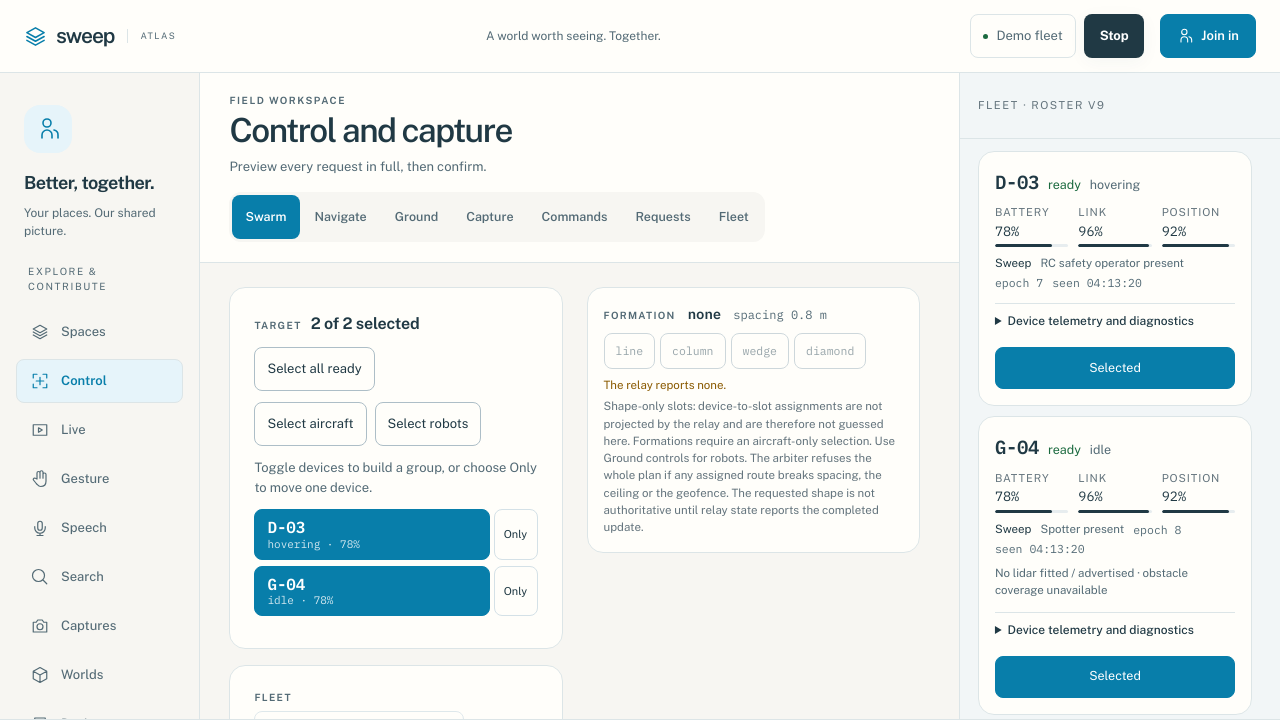
Test case: navigation review console lifecycle › opens alias review through the existing Control pane and disables dock confirmation
This screenshot has width=1280, height=720.
Step 1. Click the button "Navigate" → (341, 217), box [302,195,380,239]
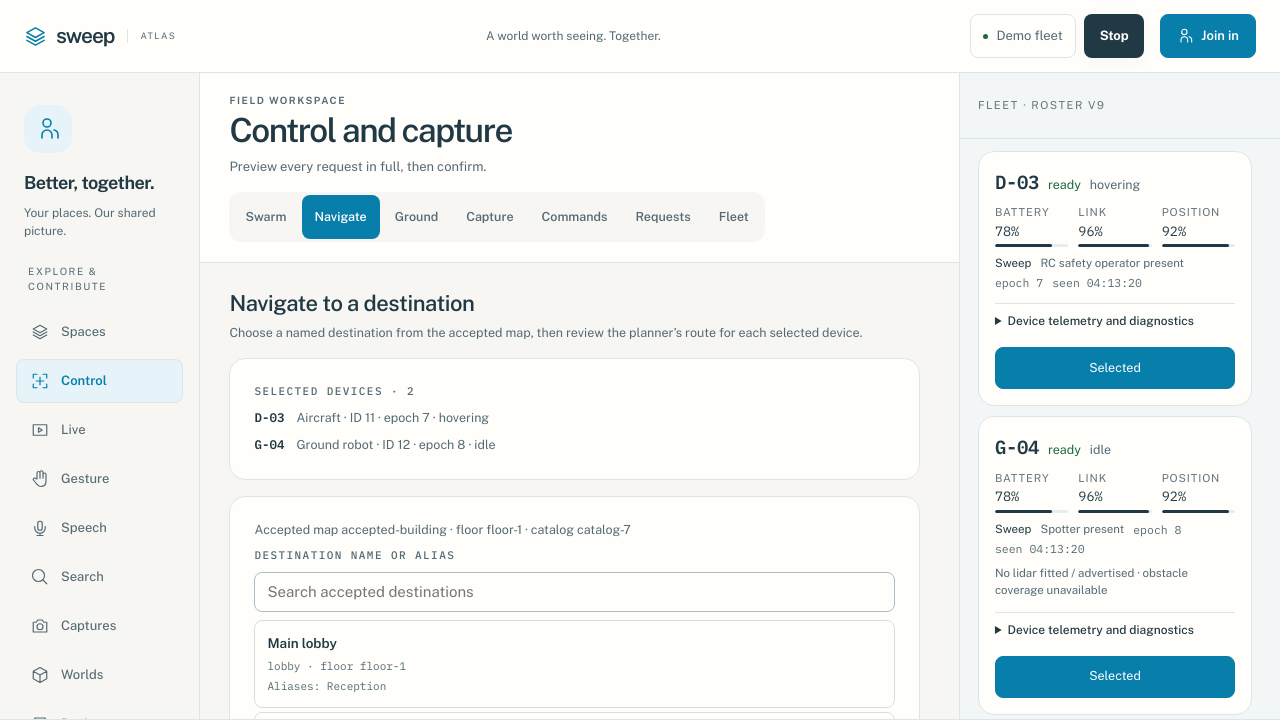
Step 2. Type "Reception" into the search field labelled "Destination name or alias" → (574, 592), box [254,572,894,612]
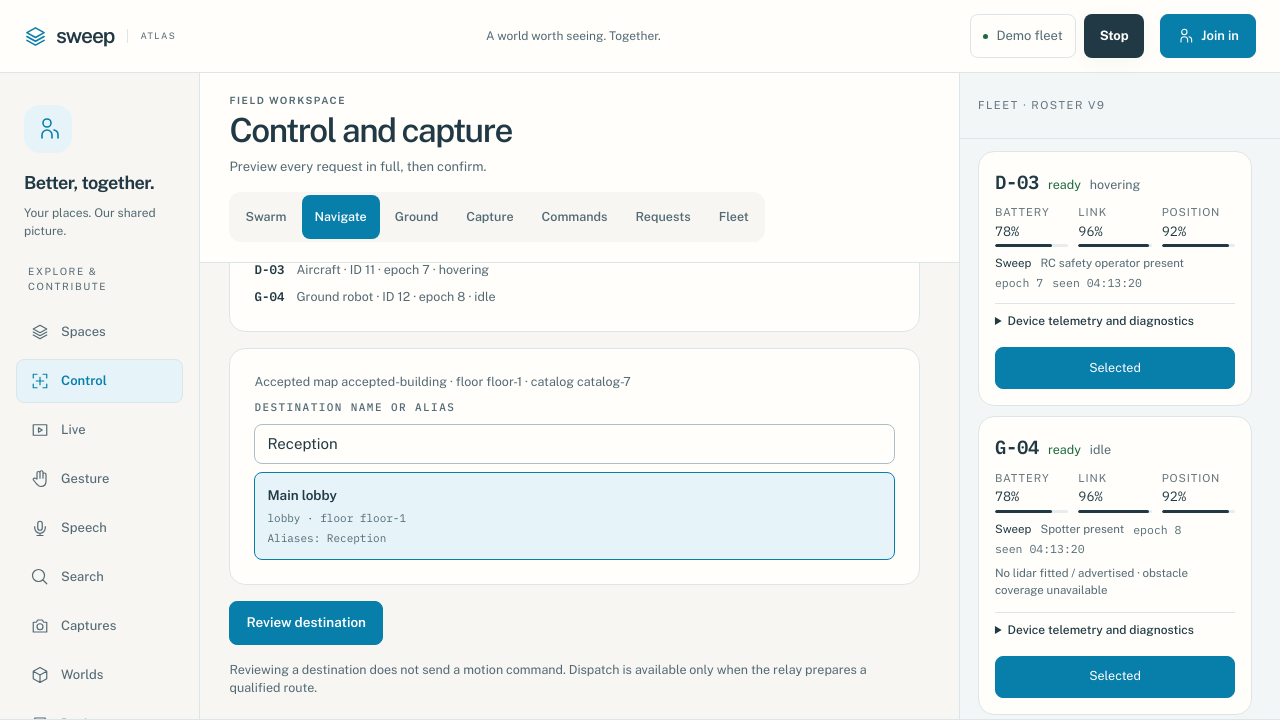
Step 3. Click the button "Review destination" → (306, 623), box [229,601,383,645]
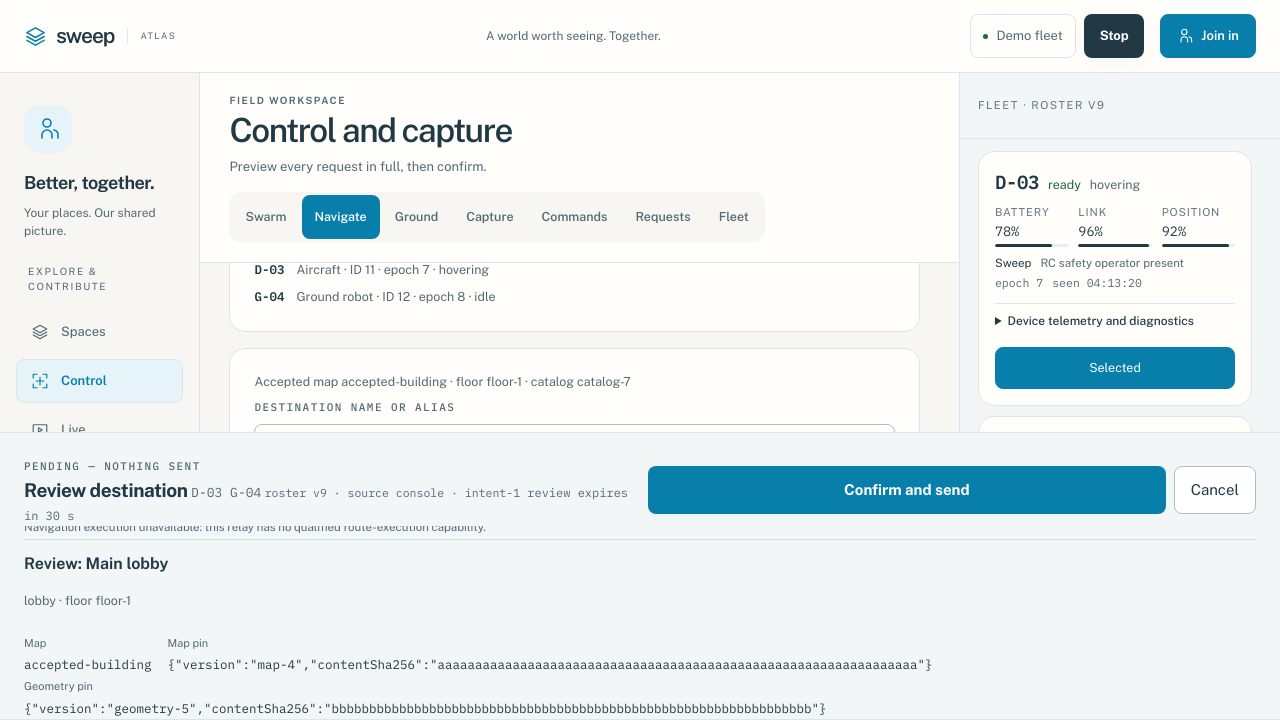
Expected: the button "Confirm and send" is disabled, [648,466,1166,514]
Expected: the element named "Pending confirmation" shows "Main lobby", [86,554,168,573]
Expected: the element named "Pending confirmation" shows "geometry-5", [24,700,826,716]
